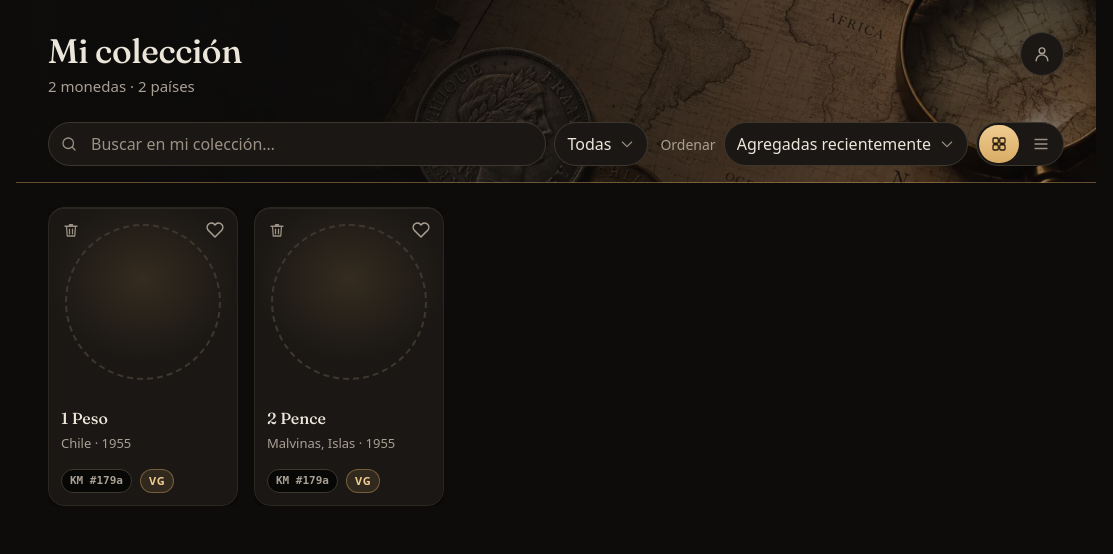
Test: filtra por país desde el desplegable
Click the dropdown named "filtrar por país": click(601, 144) [554,122,648,166]
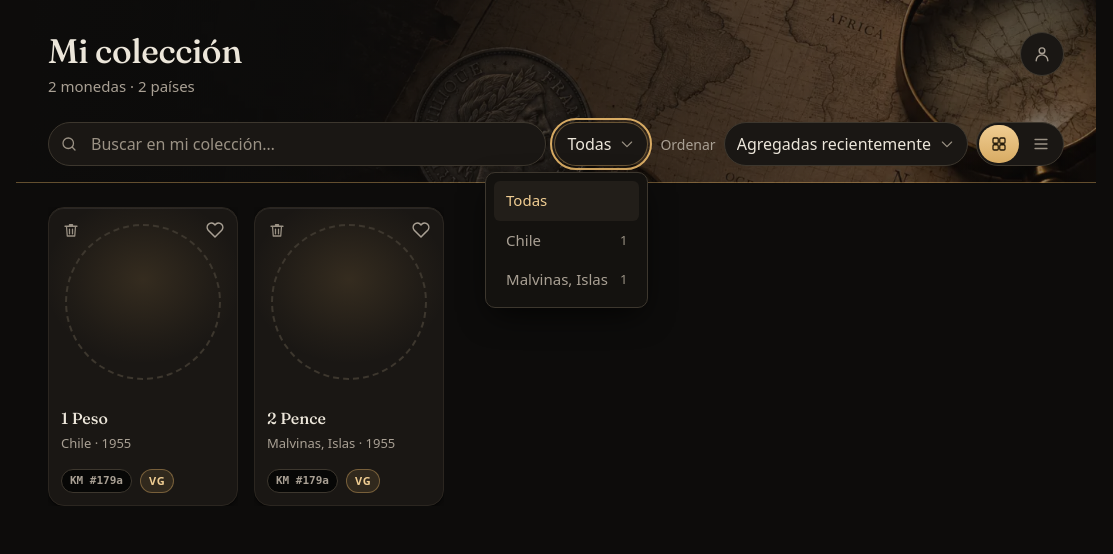
Click the option "Chile 1": click(524, 240) [506,230,628,250]
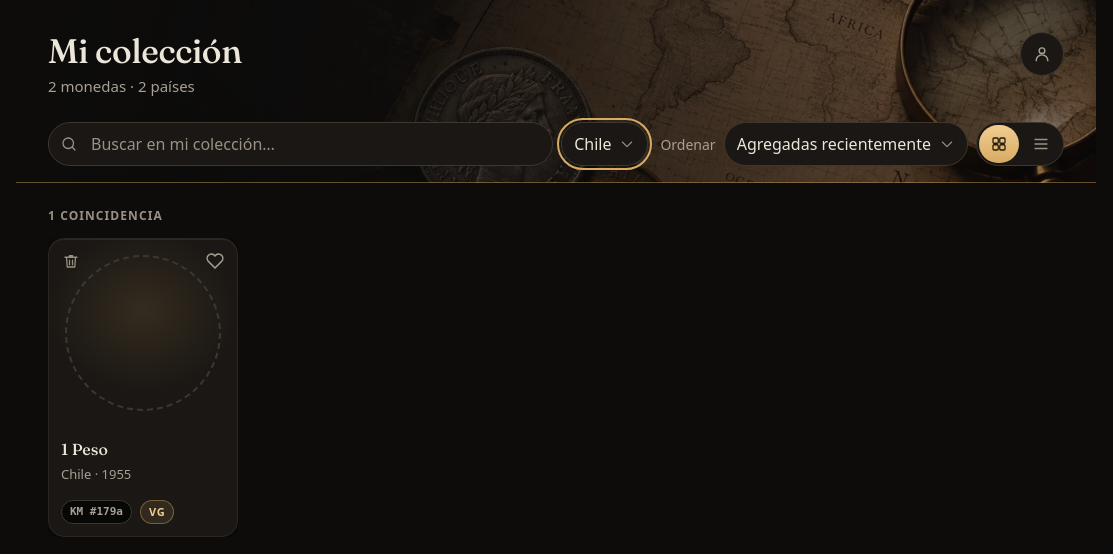
Check: the button "1 Peso" is shown, box [61,439,108,460]
Check: the button "2 Pence" is gone
